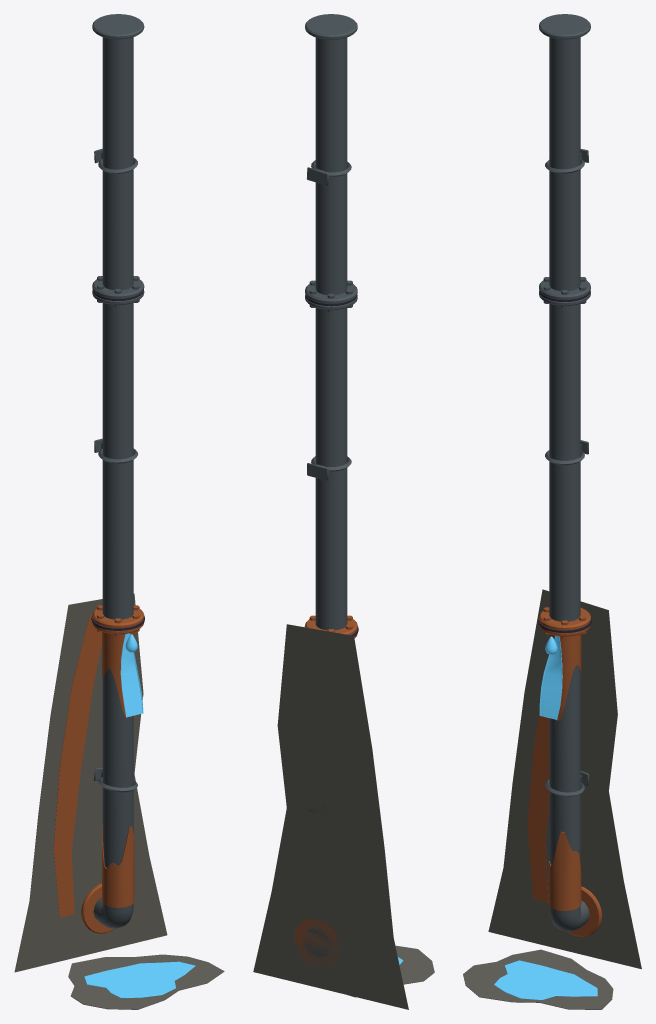
The model's file is leaky_pipe.glb.
3 renders of one model, left to right at view 1: azimuth 30°, elevation 25°; view 2: azimuth 150°, elevation 25°; view 3: azimuth 330°, elevation 25°, orthographic.
Visible parts, largest first — view 1: Pipe, Puddle; view 2: Pipe, Puddle; view 3: Pipe, Puddle.
Boxes of the visible parts, left/top/right/bottom form: Pipe: left=14, top=14, right=167, bottom=972; Puddle: left=68, top=954, right=224, bottom=1009; Pipe: left=253, top=14, right=408, bottom=1009; Puddle: left=350, top=945, right=434, bottom=997; Pipe: left=488, top=14, right=641, bottom=969; Puddle: left=463, top=949, right=613, bottom=1009.
Size of the model in its own units: 1.08 by 5.99 by 0.7655.
